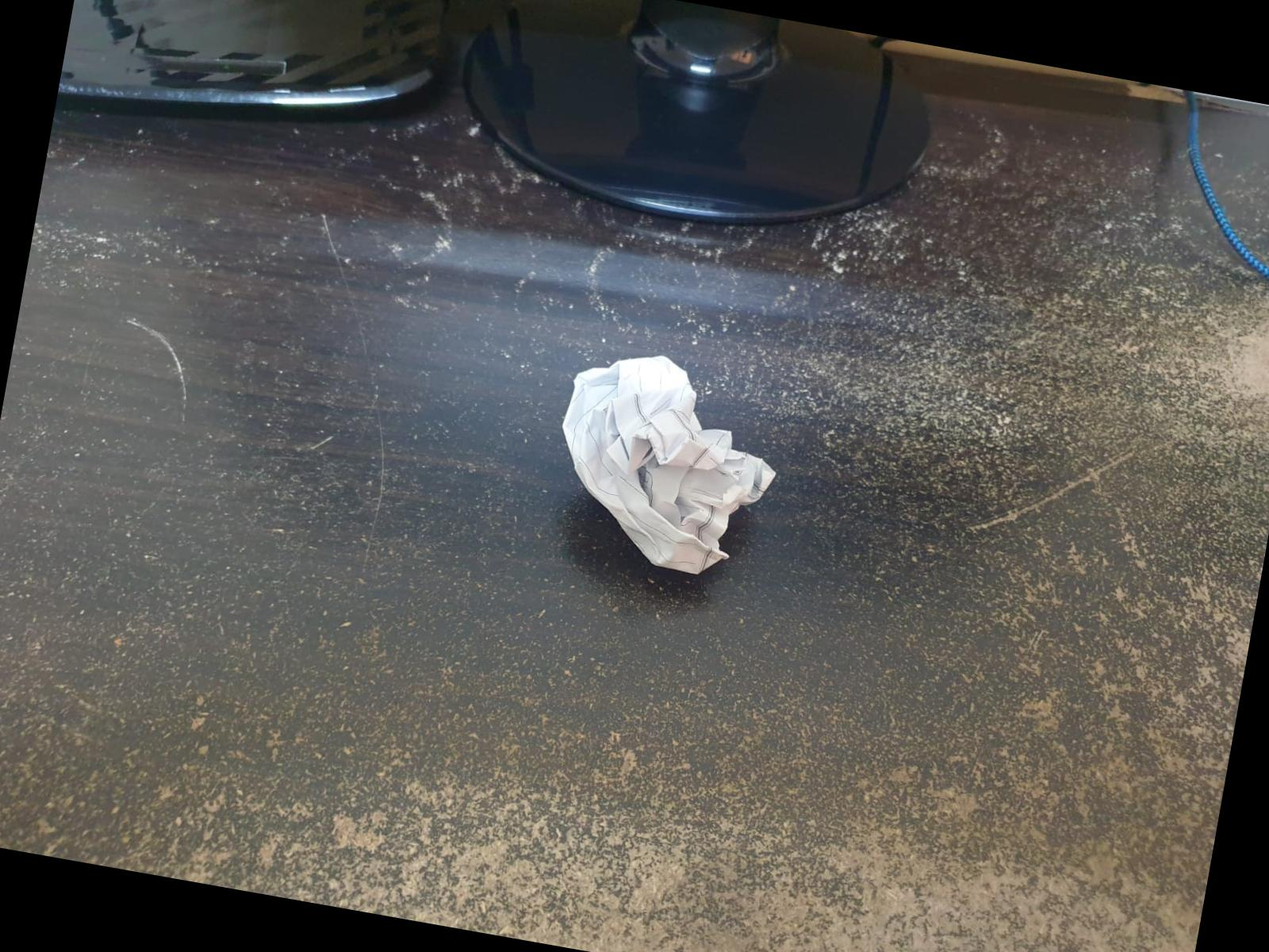Kertas: (563, 354, 787, 572)
